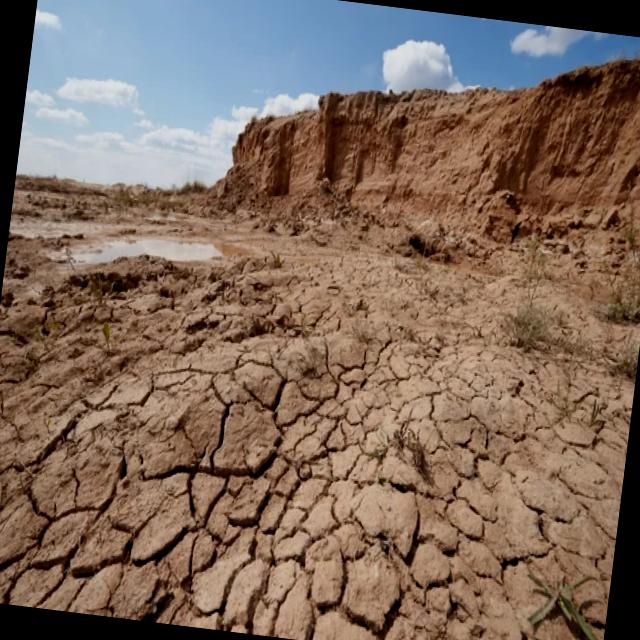suelo_seco: (153, 234, 404, 609)
